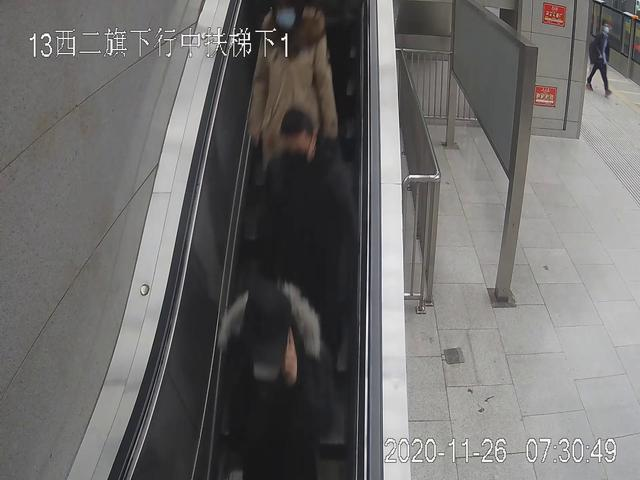person: (262, 111, 354, 371), (248, 1, 340, 242), (587, 20, 612, 100)
